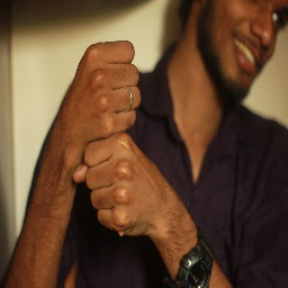G: (48, 37, 169, 245)
